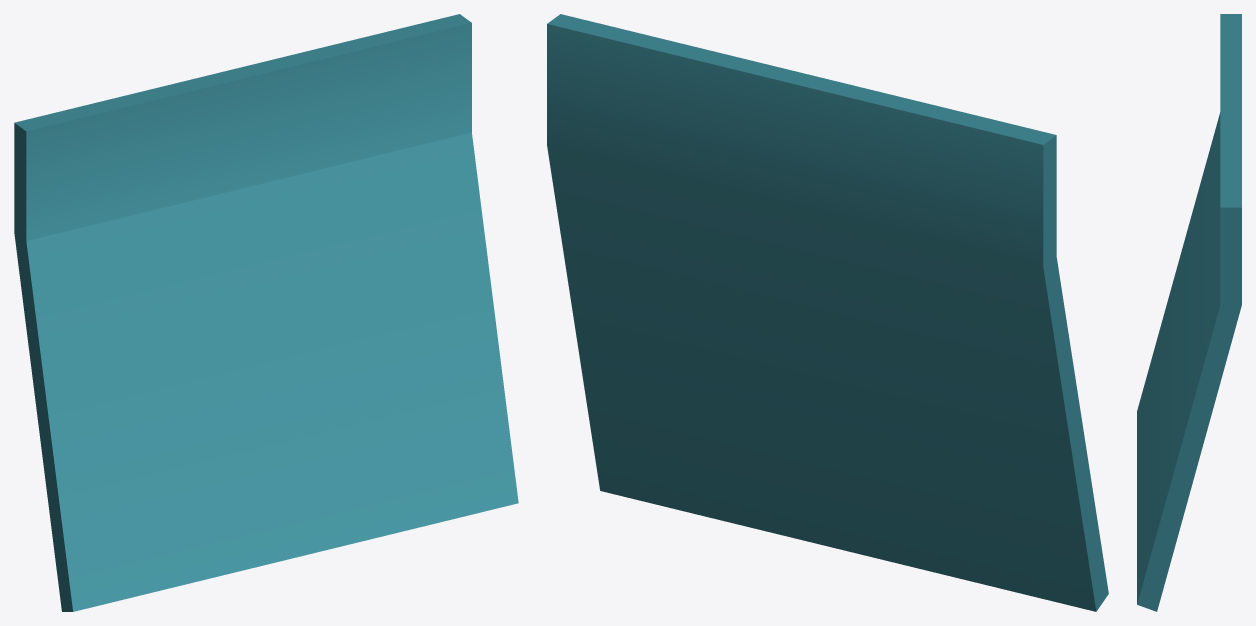
Rendered from SO_StickyNote_03.fbx.
3 views of the same model, side by side, from view 1: azimuth 30°, elevation 25°; view 2: azimuth 150°, elevation 25°; view 3: azimuth 270°, elevation 25° (orthographic). The views are drawn at different scales.
Parts seen in each view (by area): view 1: SO_StickyNote_03; view 2: SO_StickyNote_03; view 3: SO_StickyNote_03.
Part boxes in pixels (box(x1,y1,x2,y2)): SO_StickyNote_03: box(14, 14, 518, 611); SO_StickyNote_03: box(547, 14, 1108, 611); SO_StickyNote_03: box(1137, 14, 1241, 611).
Size of the model in its own units: 0.195 by 0.19 by 0.0446.
